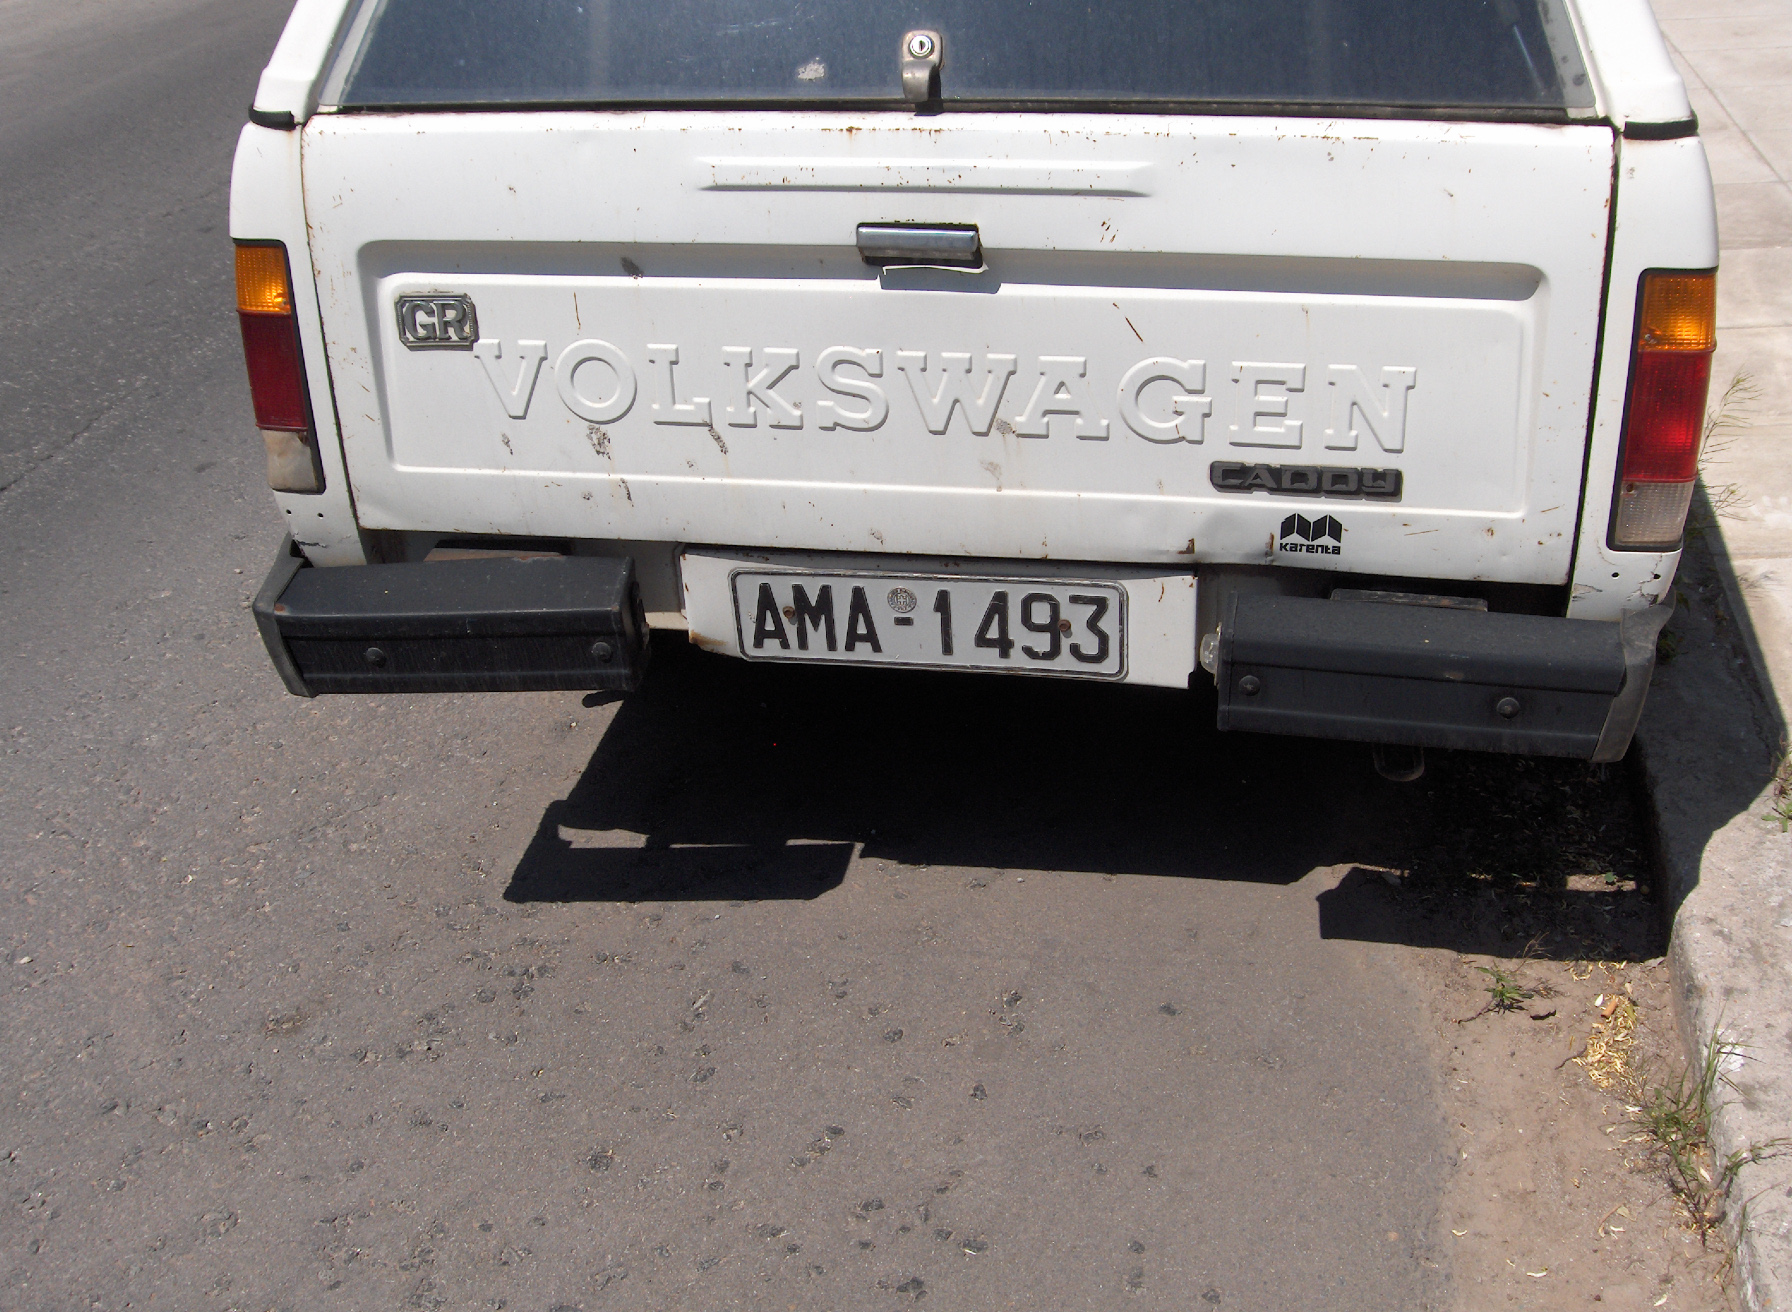licenseplate: (727, 566, 1129, 682)
